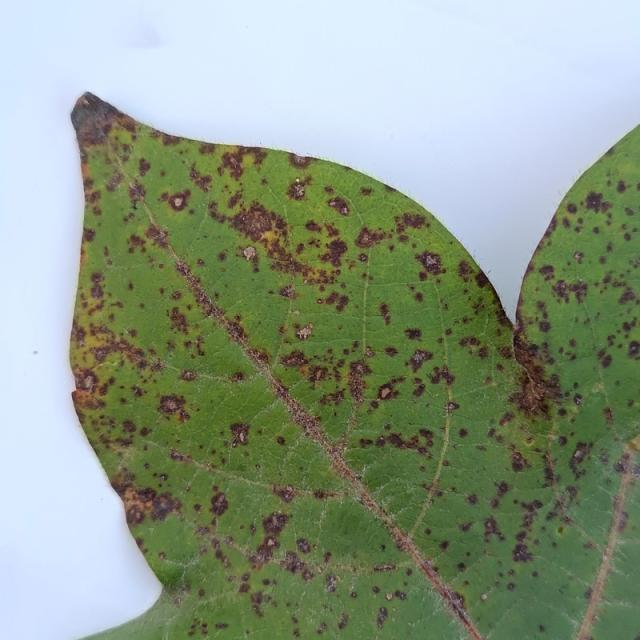Bacterial_Blight: (273, 378, 336, 450), (82, 330, 158, 384), (222, 199, 293, 256), (355, 210, 430, 252), (242, 510, 291, 566), (368, 428, 430, 455), (515, 373, 550, 415), (226, 411, 257, 452), (157, 392, 190, 421), (218, 150, 248, 181), (614, 446, 638, 484), (148, 492, 178, 522), (167, 306, 195, 338), (314, 289, 351, 313), (72, 386, 105, 412), (322, 237, 350, 267), (348, 363, 366, 409), (187, 165, 214, 193), (415, 249, 444, 275), (427, 362, 455, 388), (261, 511, 289, 537), (568, 440, 590, 473), (221, 318, 247, 344), (375, 379, 402, 402), (482, 516, 505, 543), (88, 271, 107, 303), (76, 368, 100, 393), (189, 616, 219, 636), (354, 226, 380, 249), (166, 190, 191, 212), (326, 196, 352, 217), (280, 350, 308, 369), (566, 279, 588, 302), (209, 491, 229, 516), (306, 365, 331, 385), (249, 591, 267, 617), (509, 451, 530, 473), (512, 542, 534, 563), (584, 190, 606, 211), (409, 348, 431, 369), (289, 179, 310, 200), (618, 287, 637, 306), (106, 172, 124, 192), (169, 449, 193, 463), (174, 260, 192, 278), (376, 606, 389, 630), (379, 302, 392, 324), (449, 591, 464, 610), (137, 157, 151, 177), (598, 352, 613, 369), (404, 327, 422, 341), (296, 325, 312, 340), (278, 285, 296, 298), (626, 341, 640, 357), (538, 264, 555, 277), (82, 227, 96, 242), (337, 612, 349, 629), (325, 575, 337, 592), (292, 154, 309, 166), (373, 563, 395, 572), (459, 520, 474, 533), (243, 246, 256, 261), (180, 369, 196, 381), (603, 406, 614, 423), (538, 319, 551, 333), (616, 180, 628, 193), (444, 401, 457, 413), (384, 346, 398, 357), (614, 459, 625, 473), (566, 202, 578, 214), (316, 622, 327, 634), (360, 186, 373, 196), (458, 427, 469, 438), (275, 435, 286, 446), (573, 393, 583, 405), (624, 206, 635, 216), (396, 590, 406, 600), (573, 251, 583, 261), (457, 561, 466, 571), (364, 347, 373, 357), (507, 582, 516, 591), (413, 353, 422, 362), (156, 231, 165, 240), (538, 624, 546, 634), (557, 525, 565, 535), (158, 551, 166, 560), (359, 253, 367, 262), (559, 282, 567, 291), (385, 592, 393, 601), (372, 586, 380, 594), (159, 473, 167, 481), (525, 436, 533, 444), (350, 591, 357, 598), (380, 544, 386, 551), (293, 310, 300, 316), (329, 201, 336, 206), (317, 298, 322, 304), (185, 486, 190, 492), (638, 258, 640, 265)
Cotton: (70, 93, 639, 639)
